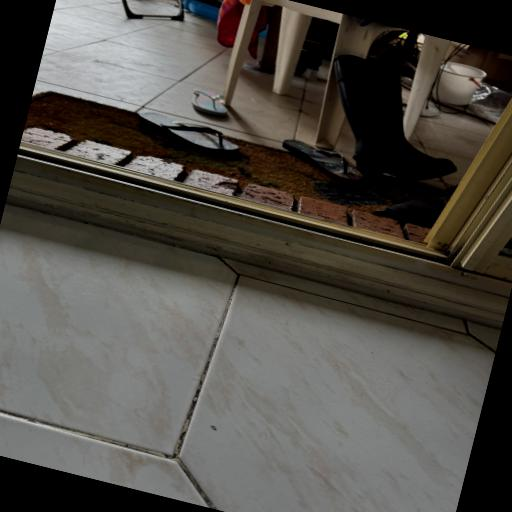step: (6, 144, 512, 328)
